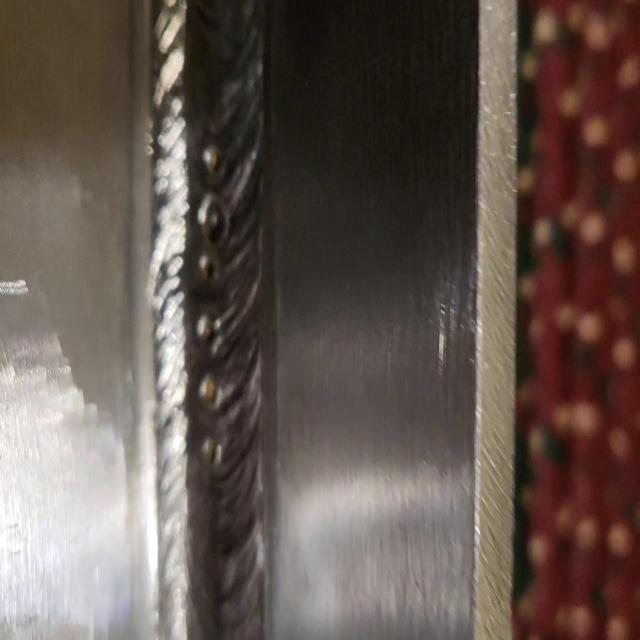Welding Line: (155, 9, 266, 640)
Workpiece: (1, 2, 506, 637)
porosity: (197, 146, 227, 472)
